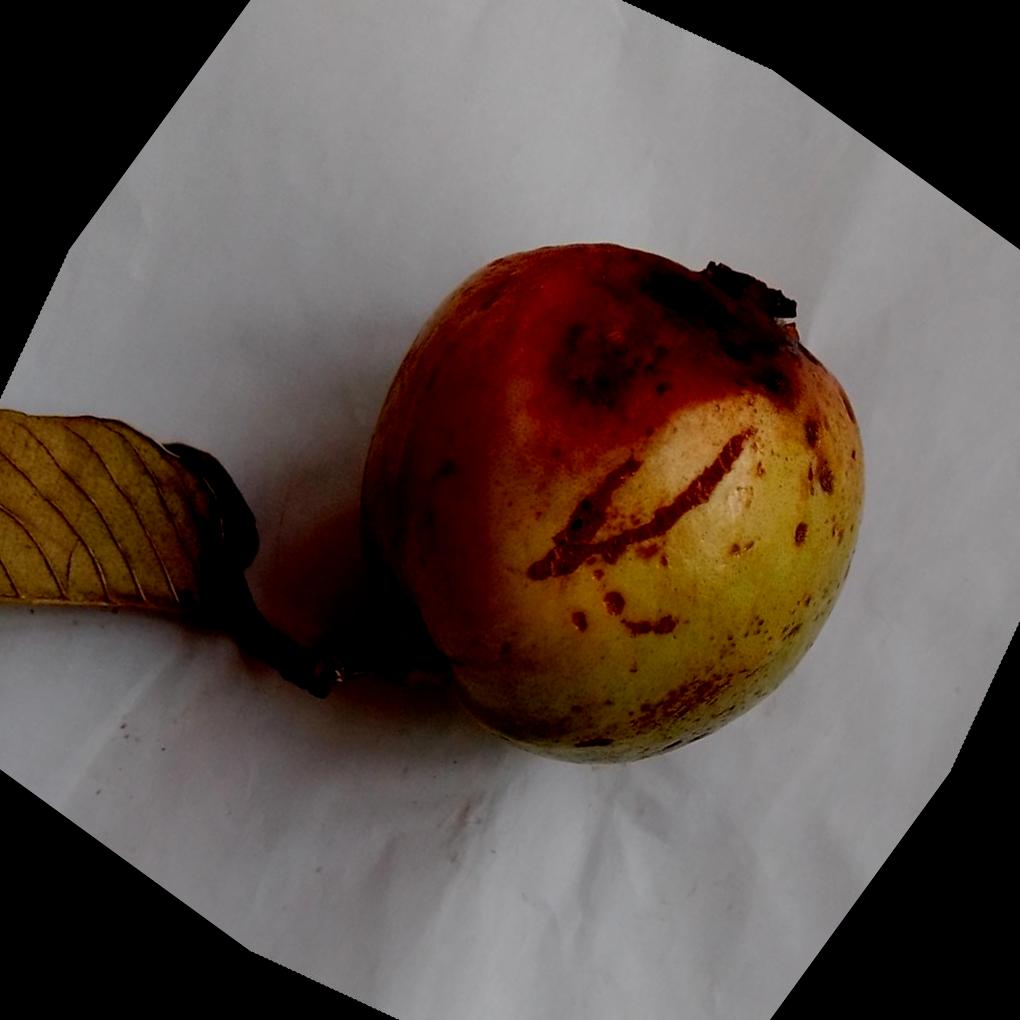FreshOrange: (266, 242, 866, 767)
